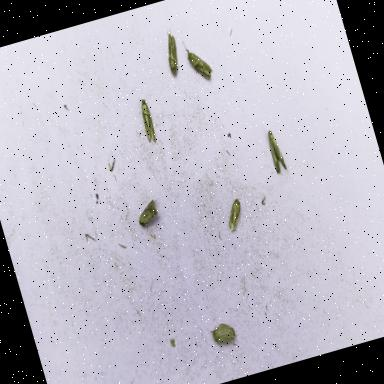pbw: (180, 37, 214, 83), (158, 26, 188, 78), (264, 123, 290, 178), (134, 92, 160, 145), (208, 316, 240, 350), (222, 195, 248, 233), (134, 198, 165, 228)
